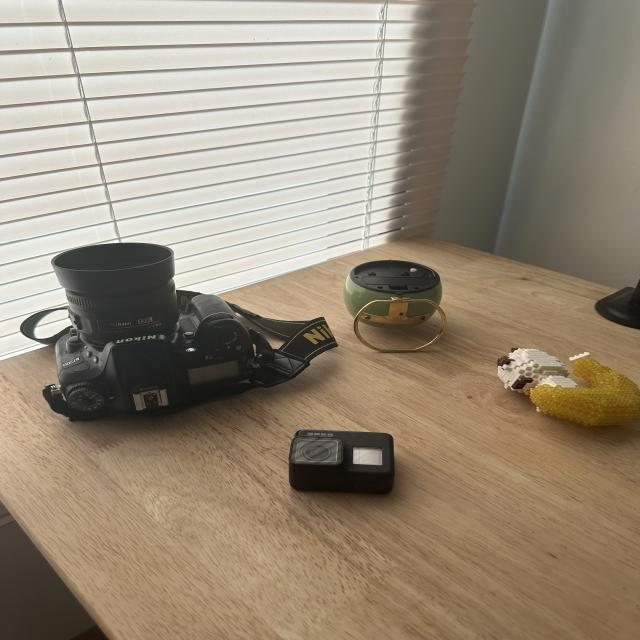actioncam: (234, 406, 426, 497)
camera: (8, 223, 348, 440)
clock: (302, 217, 468, 375)
toy: (478, 323, 640, 453)
